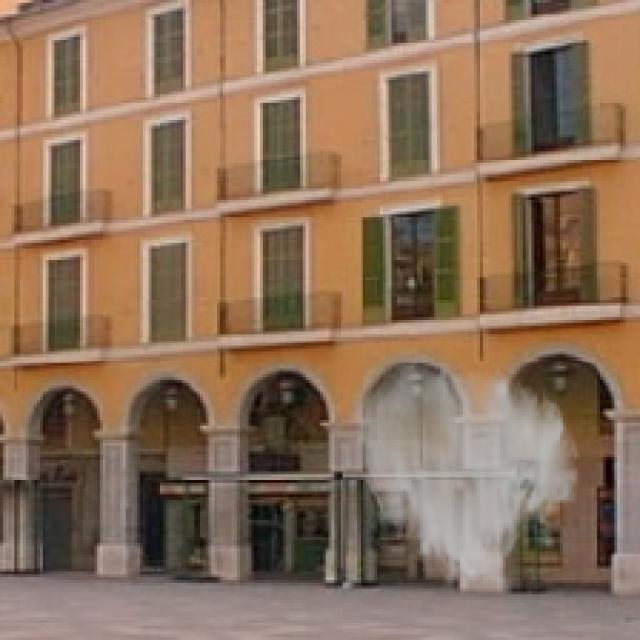smoke: (354, 354, 583, 597)
